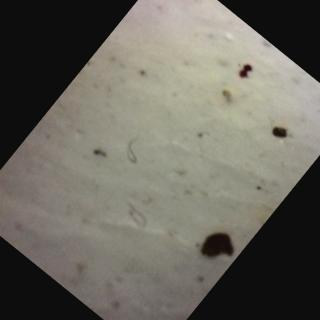Microplastic: (110, 191, 160, 241), (107, 131, 148, 170)
